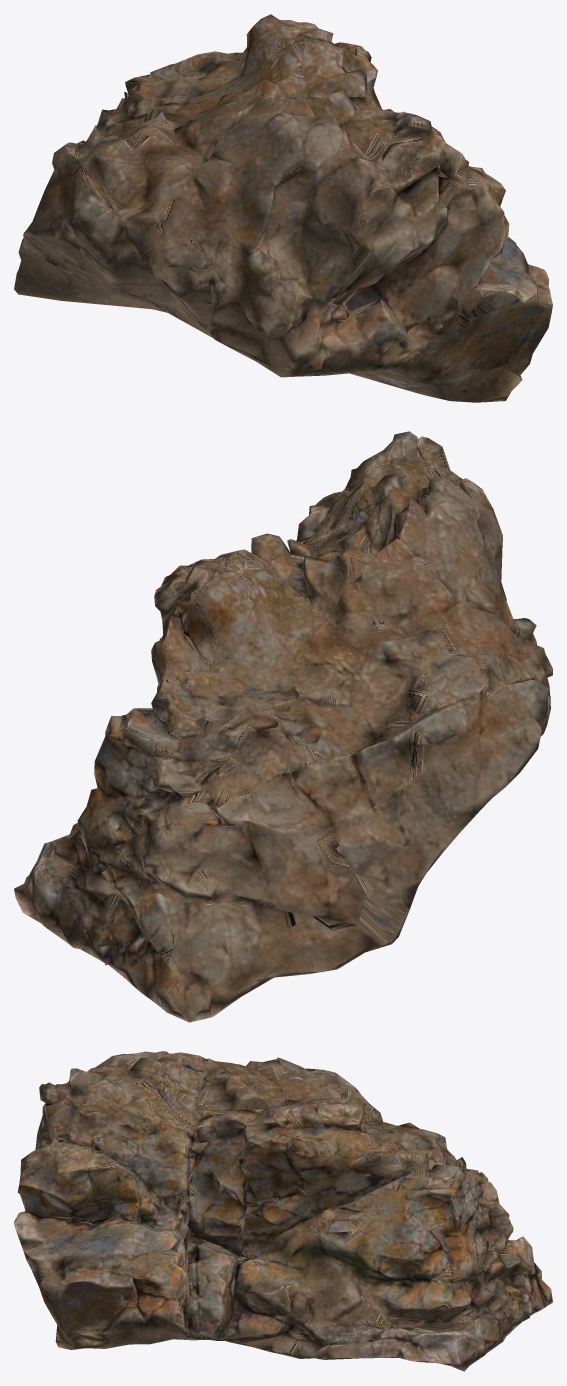
The model's file is tang-da.glb.
3 renders of one model, top to bottom at view 1: azimuth 30°, elevation 25°; view 2: azimuth 150°, elevation 25°; view 3: azimuth 270°, elevation 25°, orthographic. The views are drawn at different scales.
Parts seen in each view (by area): view 1: boulder_01; view 2: boulder_01; view 3: boulder_01.
Part boxes in pixels (left/top/right/bottom): boulder_01: left=14, top=14, right=552, bottom=402; boulder_01: left=14, top=431, right=552, bottom=1022; boulder_01: left=14, top=1051, right=552, bottom=1371.
Size of the model in its own units: 0.6942 by 0.5454 by 0.9936.
1 material, 1 textured.
